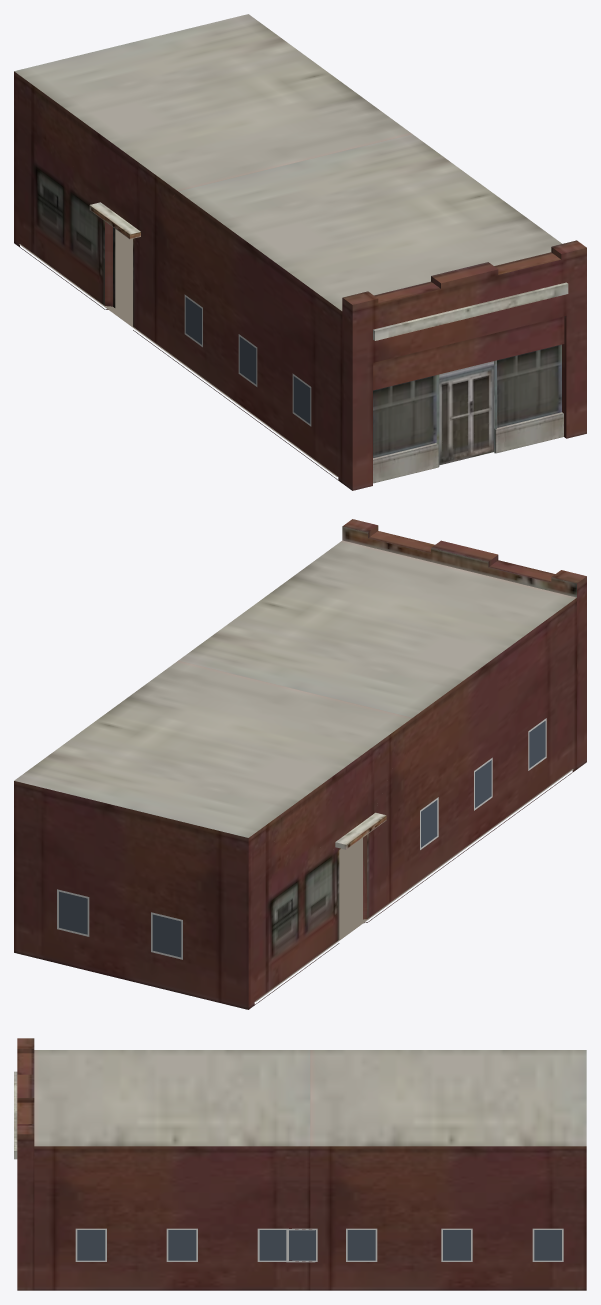
Rendered from rural-store-5.zfix-v21.lod1.glb.
3 views of the same model, one above another, from view 1: azimuth 30°, elevation 25°; view 2: azimuth 150°, elevation 25°; view 3: azimuth 270°, elevation 25° (orthographic). The views are drawn at different scales.
Parts seen in each view (by area): view 1: Rural_StoreSmall_5_Rural_Facade_FLR_2_0, Rural_StoreSmall_5_Rural_Brownstone_Facade_Flr_6_0, Window glass and frames, Walkable floors and stairs; view 2: Rural_StoreSmall_5_Rural_Brownstone_Facade_Flr_6_0, Rural_StoreSmall_5_Rural_Facade_FLR_2_0, Window glass and frames, Walkable floors and stairs; view 3: Rural_StoreSmall_5_Rural_Brownstone_Facade_Flr_6_0, Rural_StoreSmall_5_Rural_Facade_FLR_2_0, Window glass and frames.
Part boxes in pixels (box(x1,y1,x2,y2)): Rural_StoreSmall_5_Rural_Facade_FLR_2_0: box(14, 14, 568, 483); Rural_StoreSmall_5_Rural_Brownstone_Facade_Flr_6_0: box(14, 71, 586, 490); Window glass and frames: box(184, 294, 311, 426); Walkable floors and stairs: box(19, 229, 337, 476); Rural_StoreSmall_5_Rural_Brownstone_Facade_Flr_6_0: box(14, 519, 586, 1009); Rural_StoreSmall_5_Rural_Facade_FLR_2_0: box(14, 526, 576, 922); Window glass and frames: box(57, 718, 546, 959); Walkable floors and stairs: box(255, 769, 573, 1001); Rural_StoreSmall_5_Rural_Brownstone_Facade_Flr_6_0: box(17, 1038, 586, 1290); Rural_StoreSmall_5_Rural_Facade_FLR_2_0: box(14, 1050, 586, 1159); Window glass and frames: box(75, 1228, 563, 1262).
Bounding box in the file's own units: 8.42 × 6.06 × 20.13.
4 materials, 2 textured.
